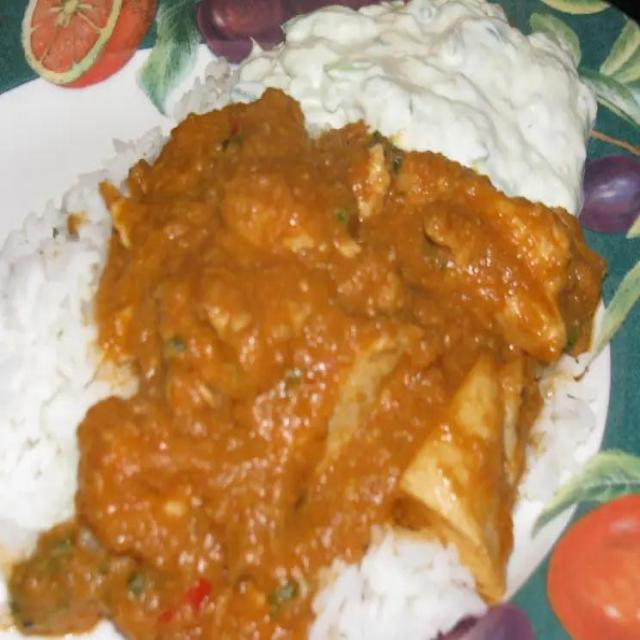chicken: (125, 129, 573, 640)
rice: (9, 158, 103, 536)
